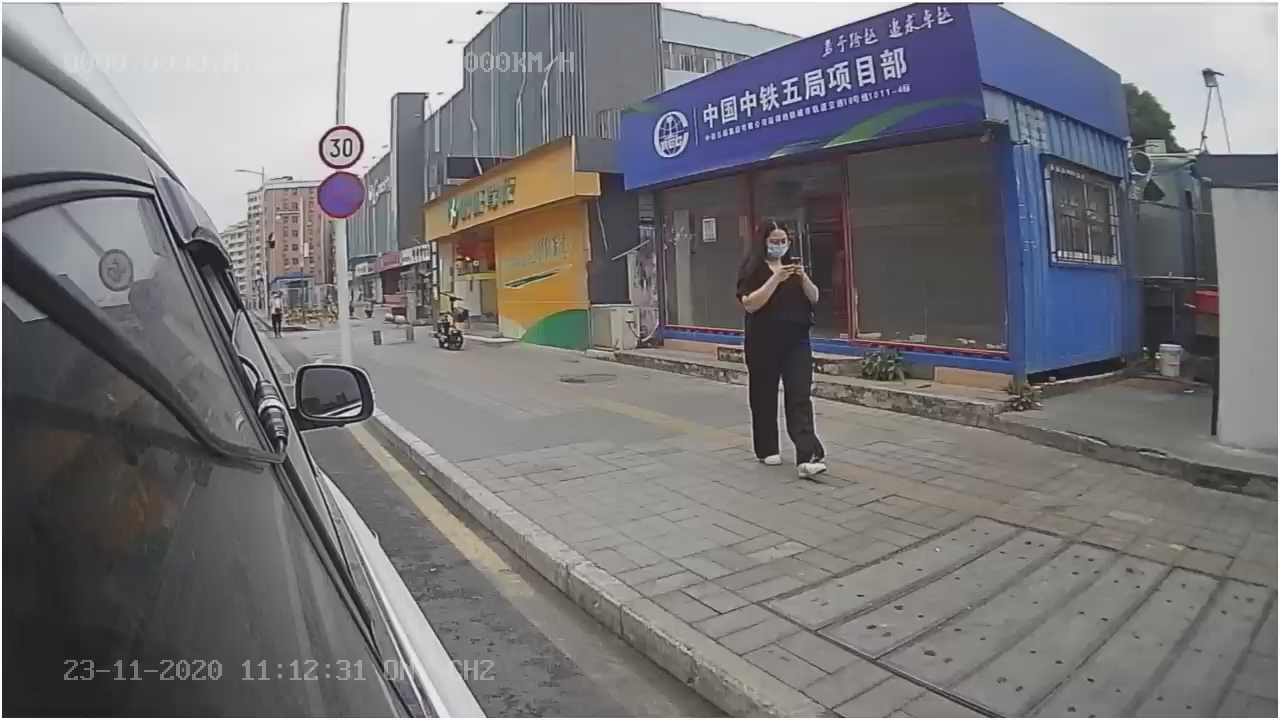person: (733, 214, 837, 485)
